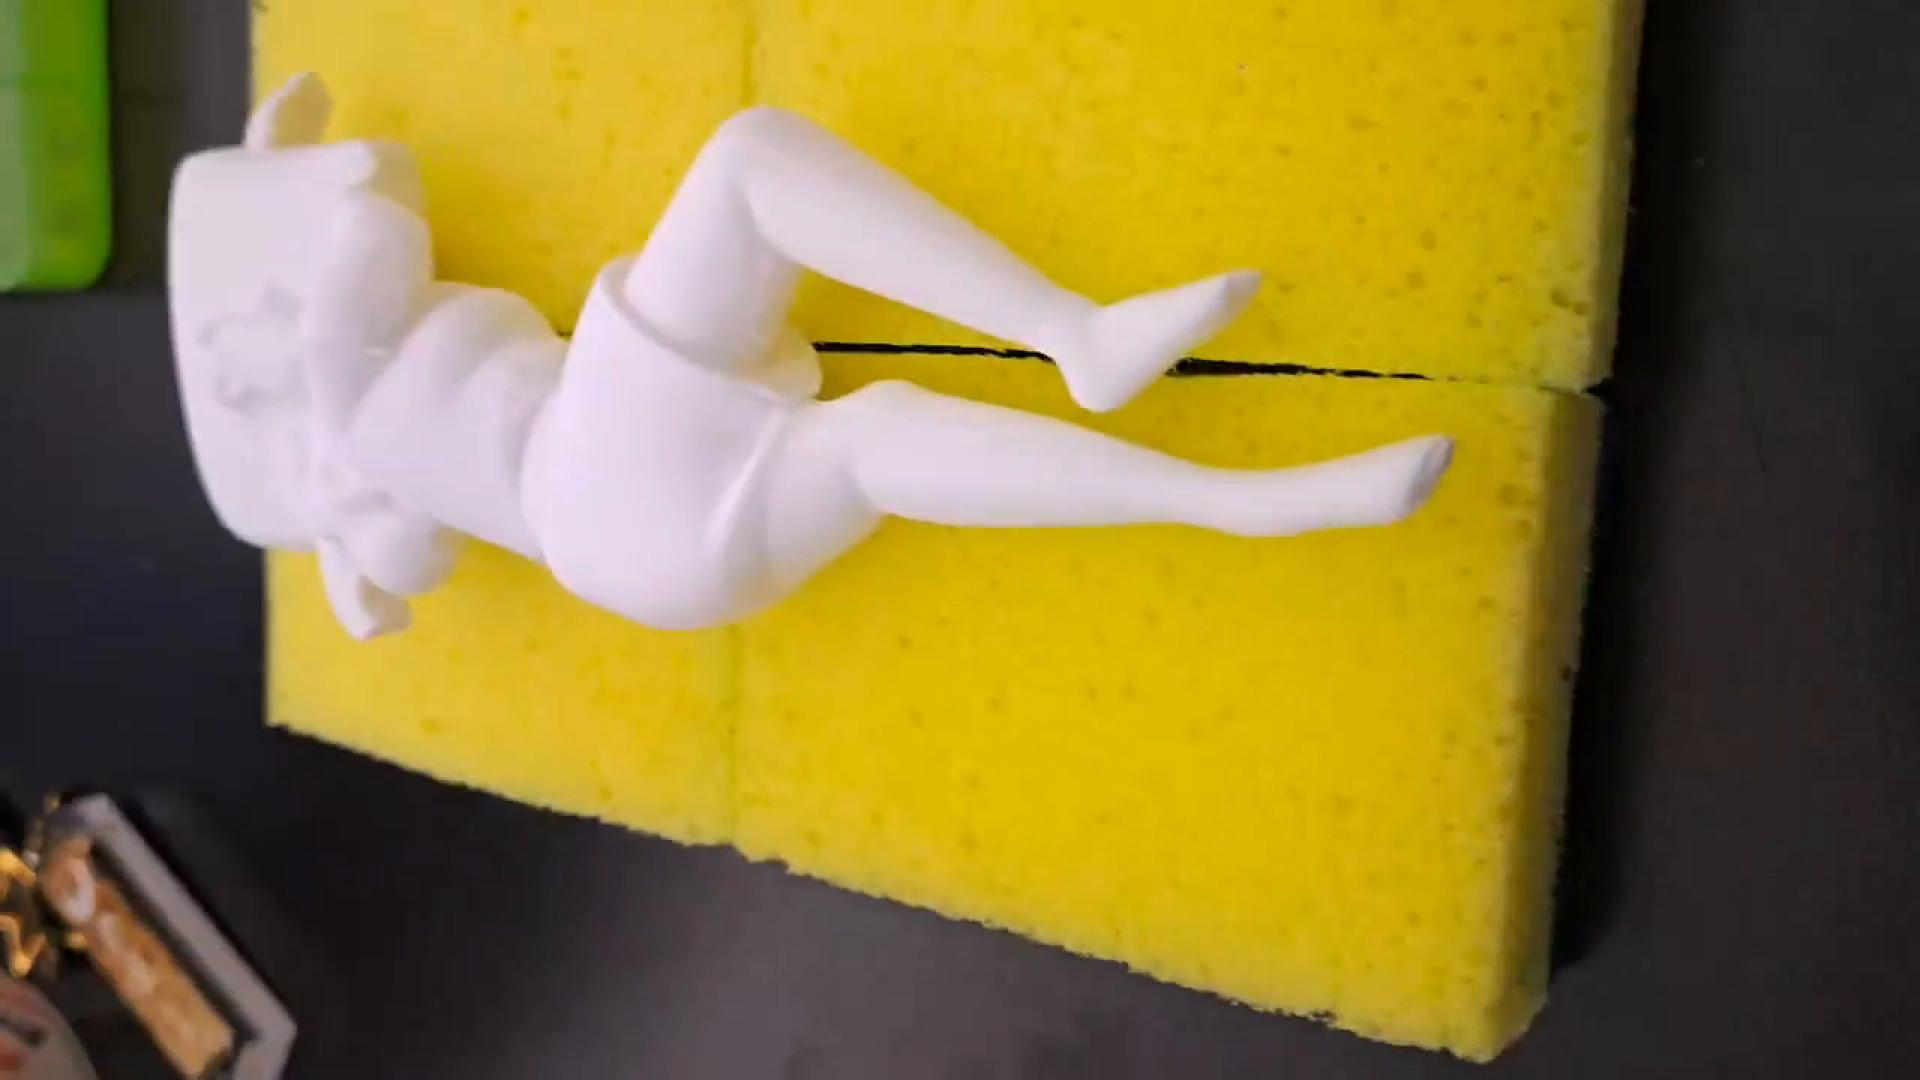Good-style: (160, 63, 1465, 649)
